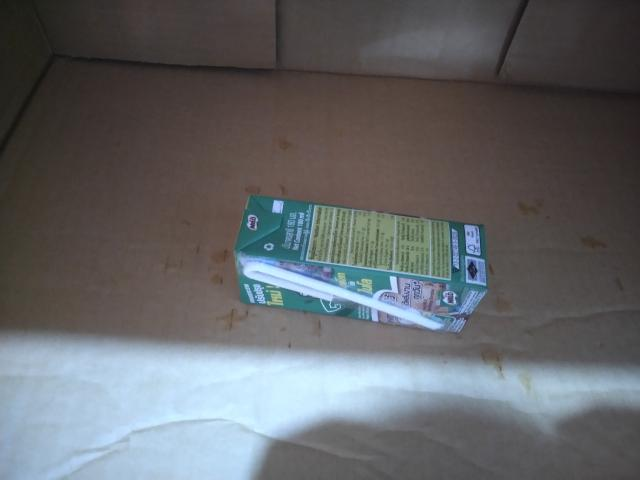drink_box: (235, 195, 488, 332)
